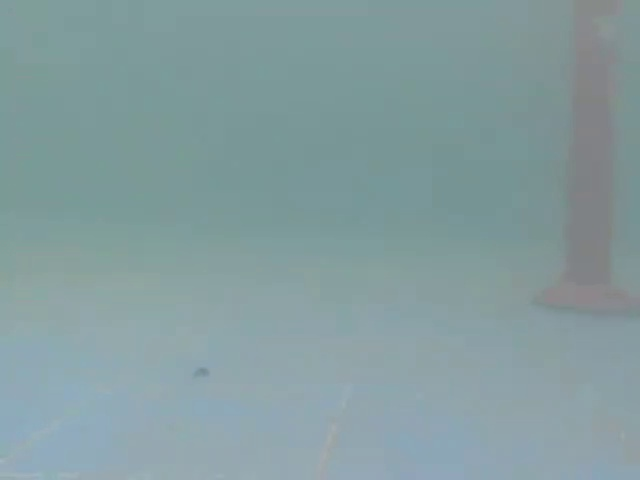flare: (531, 0, 640, 325)
